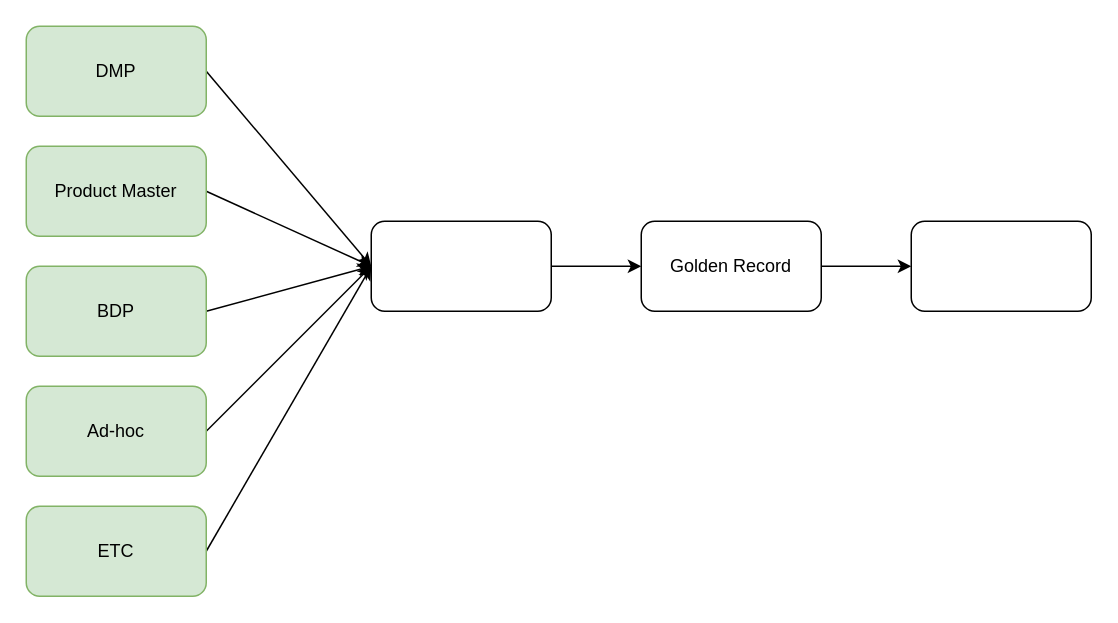
This 1118x623 diagram has some shape labels left out. Each missing label, with the centre of its shape:
Segementation: pixel 1000 265
Staging: pixel 460 265
